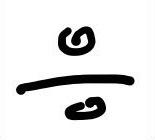div: (15, 26, 135, 121)
